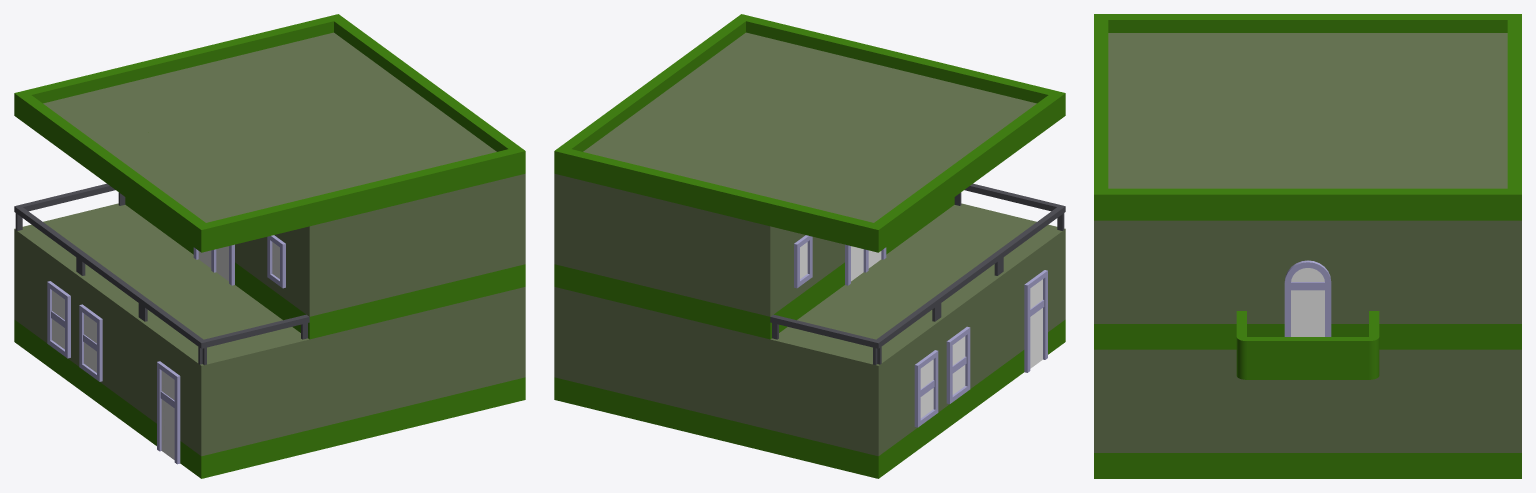
The model's file is modern_house_3.fbx.
3 views of the same model, side by side, from view 1: azimuth 30°, elevation 25°; view 2: azimuth 150°, elevation 25°; view 3: azimuth 270°, elevation 25° (orthographic). The views are drawn at different scales.
Parts seen in each view (by area): view 1: mergedBlocks; view 2: mergedBlocks; view 3: mergedBlocks.
Part boxes in pixels (x1,y1,x2,y2): mergedBlocks: (14, 14, 525, 478); mergedBlocks: (554, 14, 1065, 478); mergedBlocks: (1094, 14, 1521, 478).
Bounding box in the file's own units: 35.3 × 22 × 30.
